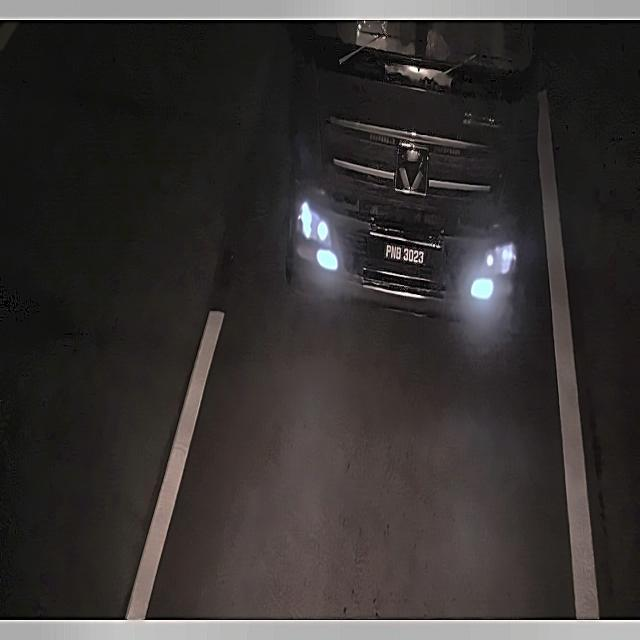car: (377, 236, 432, 278)
